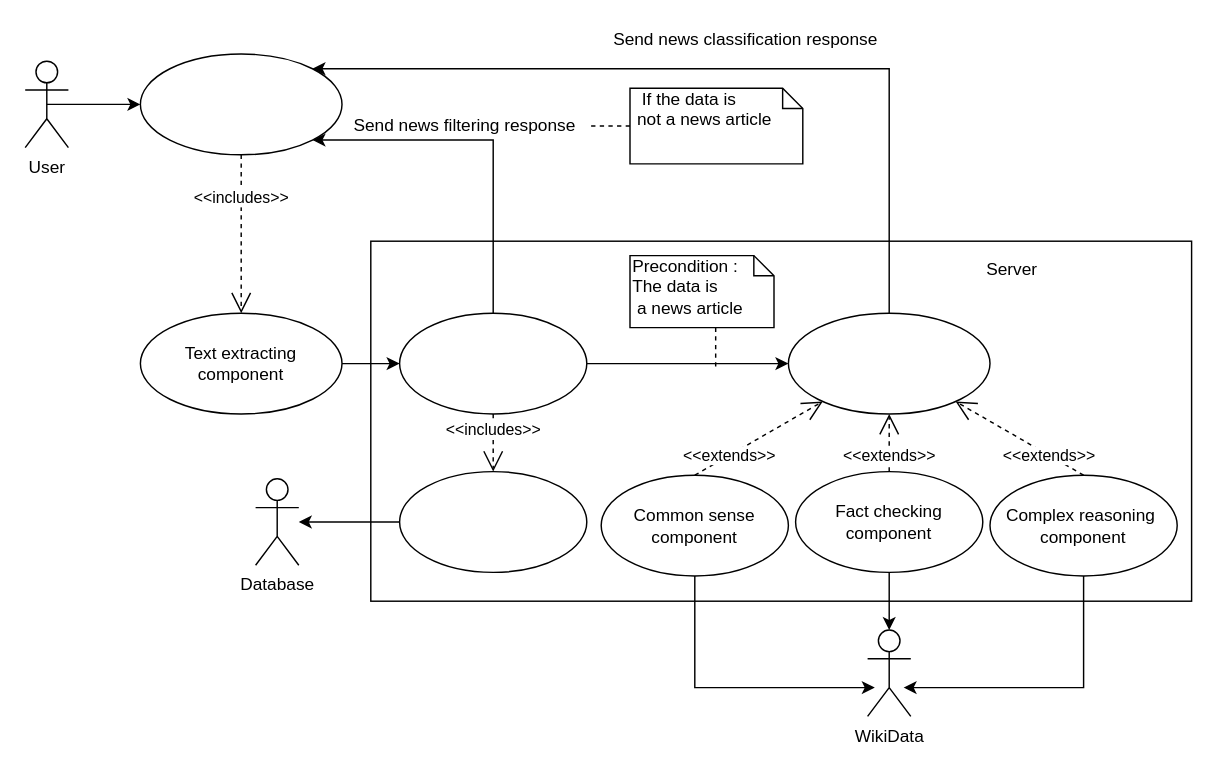
Some shapes in this 1217 by 770 pixel diagram are drawn without their labels. Each missing label, with the box of its shape:
Database Services: (398, 470, 587, 572)
News classification Component: (787, 312, 990, 414)
News Filtering Component: (398, 312, 587, 414)
Web page with plugin: (139, 53, 342, 155)
